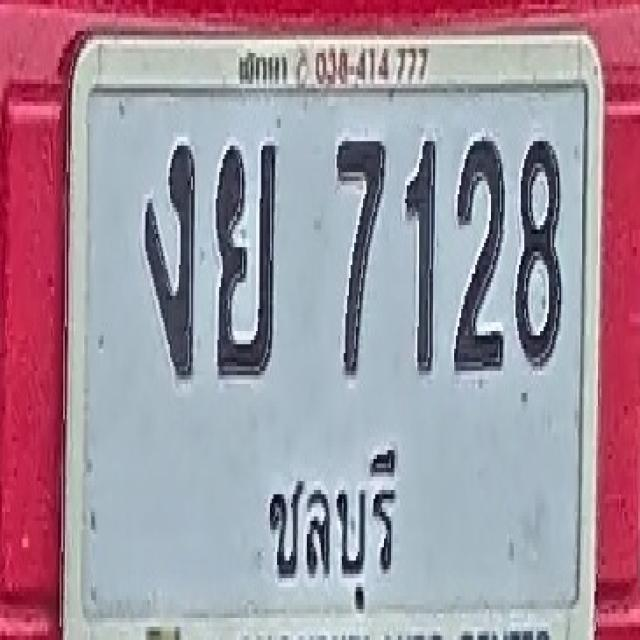-: (215, 141, 276, 375), (143, 144, 194, 378)
1: (404, 137, 436, 375)
2: (454, 137, 503, 371)
7: (336, 137, 385, 375)
8: (516, 137, 561, 366)
